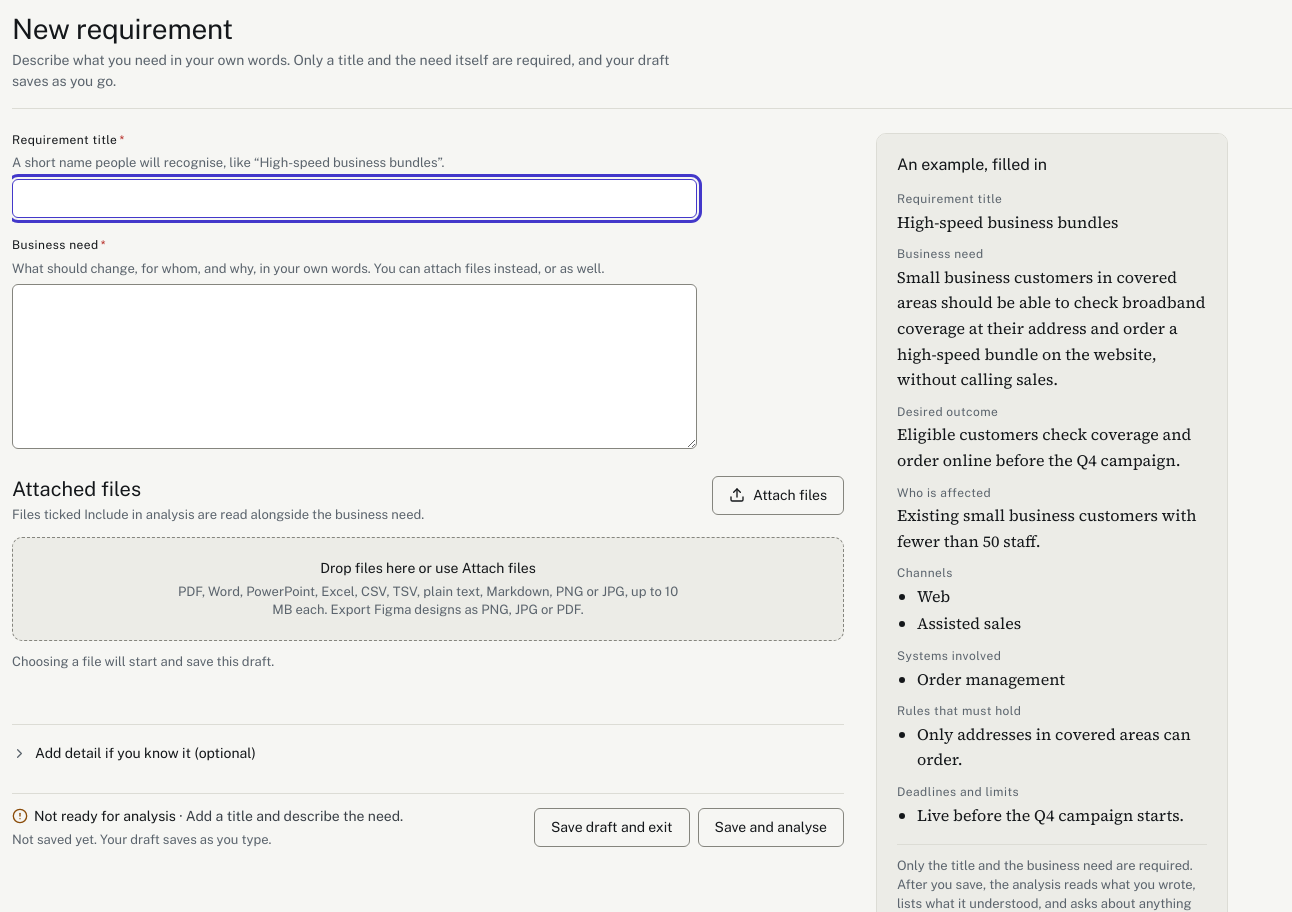
Test case: NewRequirementPage › keeps the form interactive while autosave is running
Type "A genuinely new requirement" into the field labelled "Requirement title*" at [355, 198], box [12, 179, 697, 218]
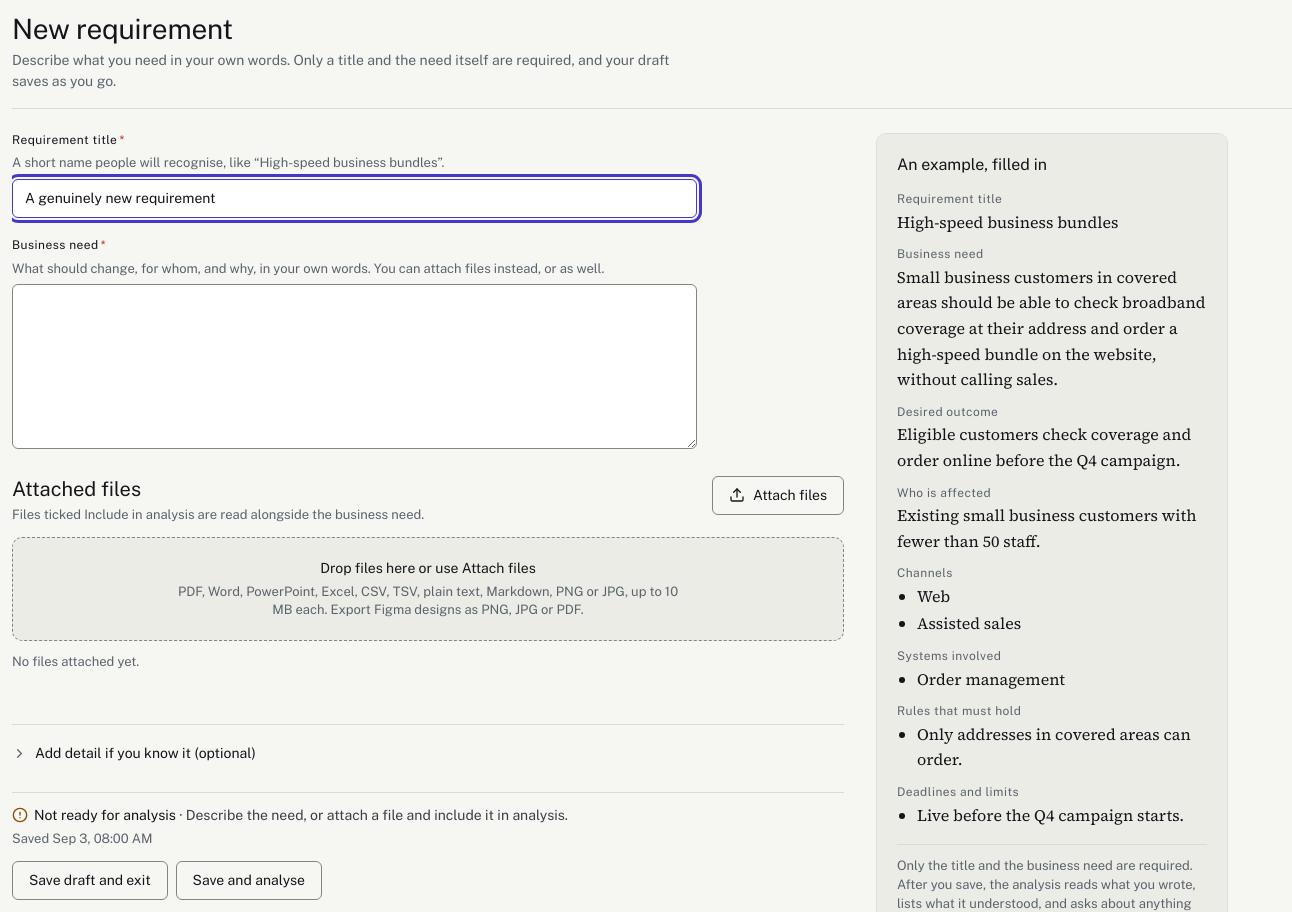
Check: the text "Not ready for analysis" is shown, box [34, 807, 176, 823]
Check: the text "Saved Sep 3, 08:00 AM" is shown, box [12, 830, 153, 849]
